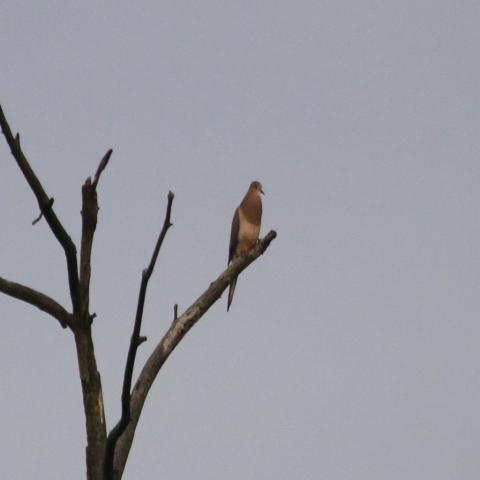bird: (224, 177, 266, 311)
